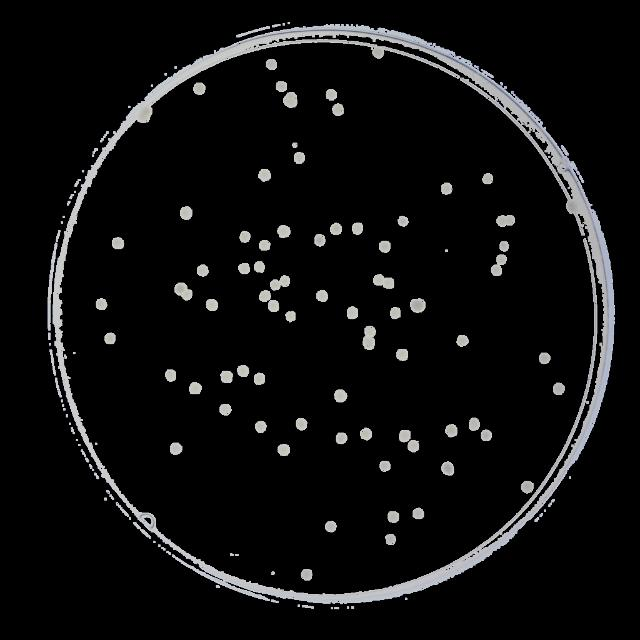colony: (138, 106, 152, 122), (285, 92, 297, 108), (259, 169, 271, 181), (170, 443, 182, 455), (278, 444, 290, 456), (412, 300, 424, 312), (190, 383, 202, 395), (174, 282, 186, 294), (278, 225, 290, 237), (332, 104, 343, 116), (334, 391, 346, 402), (442, 462, 453, 473), (372, 48, 384, 58), (194, 84, 206, 94), (266, 59, 278, 69), (409, 440, 419, 452), (337, 433, 347, 445), (364, 337, 374, 349), (348, 306, 358, 318), (220, 405, 232, 415), (166, 369, 176, 381), (238, 365, 248, 377), (352, 222, 362, 234), (481, 174, 493, 184), (206, 300, 218, 310), (198, 264, 208, 276), (240, 262, 250, 274), (240, 230, 250, 242), (318, 290, 328, 302), (286, 310, 296, 322), (280, 275, 290, 287), (268, 300, 278, 312), (374, 274, 384, 286), (481, 431, 491, 442), (399, 431, 409, 442), (361, 428, 371, 439), (457, 335, 468, 345), (398, 216, 408, 227), (111, 238, 122, 248), (392, 306, 401, 318), (302, 570, 312, 580), (326, 522, 336, 532), (388, 512, 398, 522), (522, 482, 532, 492), (469, 420, 479, 430), (446, 426, 456, 436), (540, 353, 550, 363), (554, 384, 564, 394), (380, 460, 390, 470), (365, 326, 375, 336), (296, 418, 306, 428), (256, 422, 266, 432), (222, 372, 232, 382), (491, 266, 501, 276), (380, 241, 390, 251), (442, 184, 452, 194), (181, 208, 191, 218), (254, 262, 264, 272), (260, 240, 270, 250), (270, 280, 280, 290), (385, 279, 395, 289), (398, 348, 407, 359), (258, 292, 270, 300), (414, 509, 424, 518), (96, 299, 105, 309), (332, 223, 341, 233), (497, 256, 508, 264), (316, 236, 324, 247), (278, 82, 288, 90), (296, 152, 304, 162), (256, 374, 264, 384), (106, 334, 114, 344), (500, 242, 510, 250), (497, 216, 505, 226), (506, 215, 514, 225), (328, 88, 334, 100), (386, 535, 394, 543), (184, 292, 192, 300), (292, 143, 296, 147), (271, 570, 275, 574), (237, 554, 240, 556), (230, 553, 232, 555), (445, 250, 447, 250)
